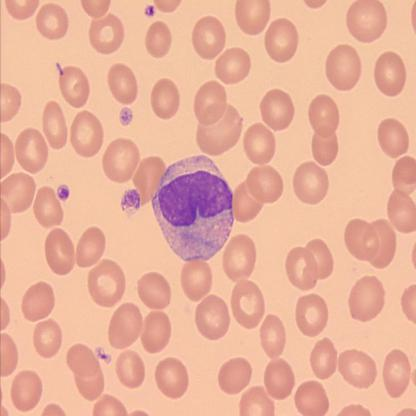Monocyte: (150, 153, 235, 264)
